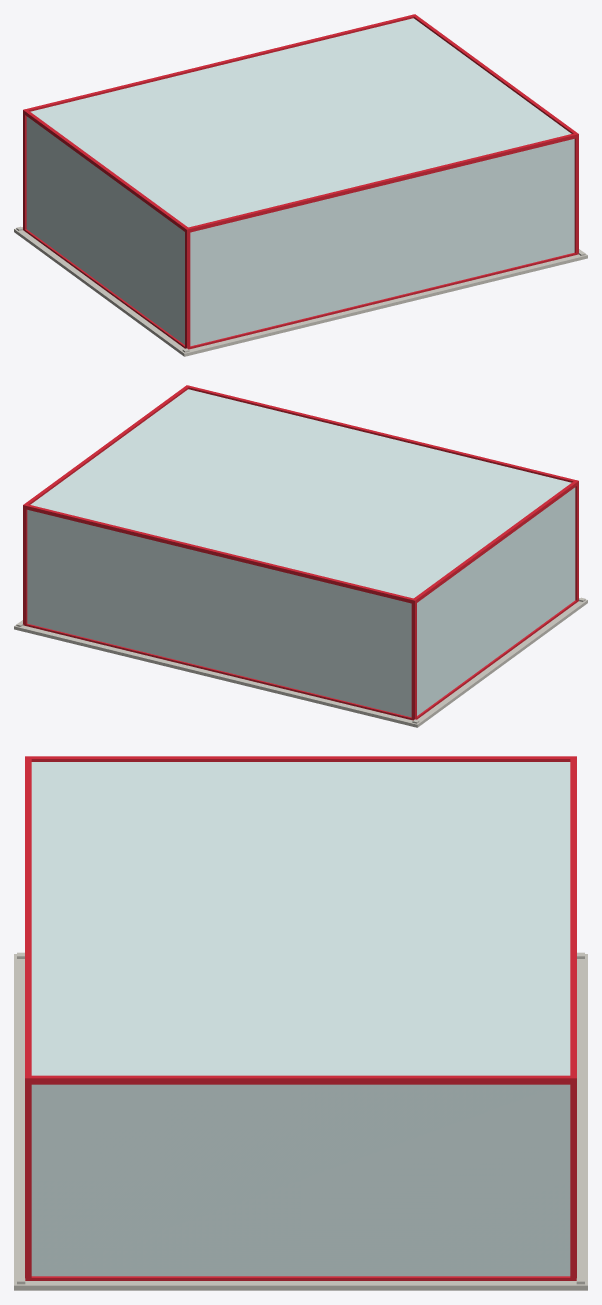
Rendered from dune-royal-ornithopter.glb.
3 views of the same model, one above another, from view 1: azimuth 30°, elevation 25°; view 2: azimuth 150°, elevation 25°; view 3: azimuth 270°, elevation 25° (orthographic). The views are drawn at different scales.
Bounding box in the file's own units: 0.82 × 0.2395 × 0.6.
